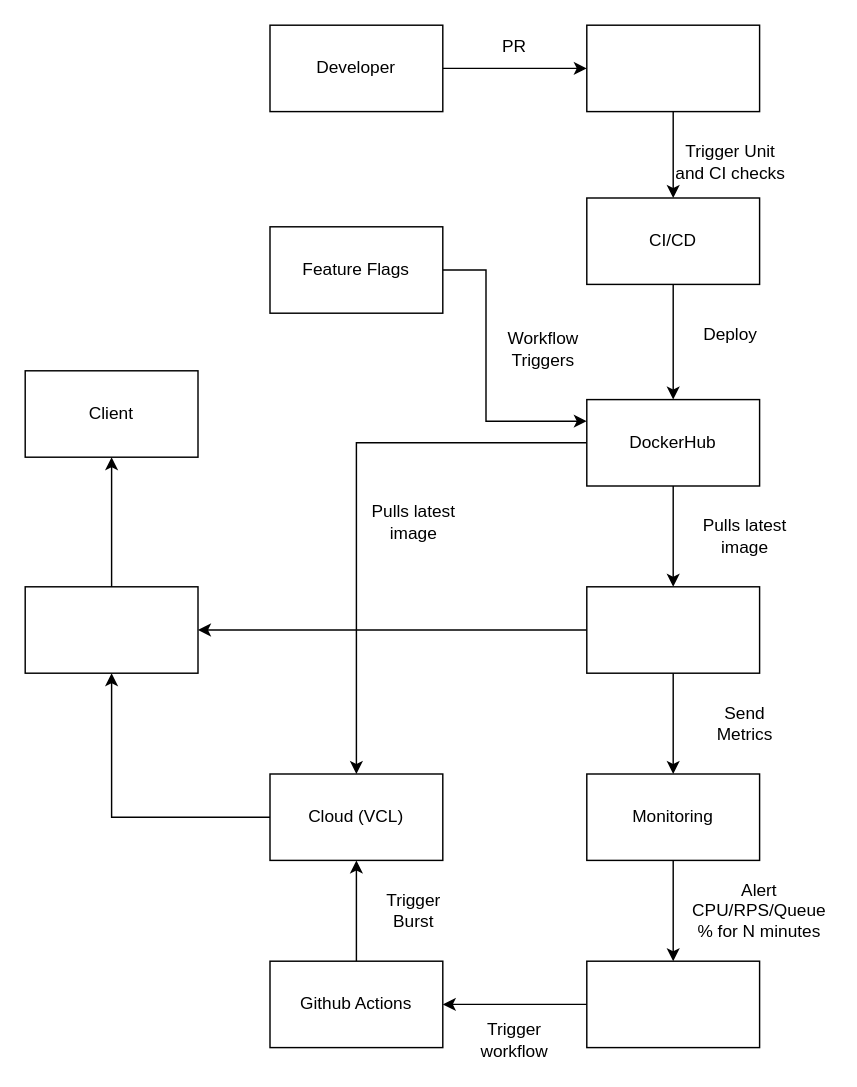
Image size: 857x1087. Some labels were removed from this diagram. The box of each missing label's shape, as (x1, y1, x2, y2) in pixels:
Github: (585, 24, 760, 112)
Load Balancer: (24, 585, 198, 673)
On Prem: (585, 585, 760, 673)
Webhook: (585, 960, 760, 1048)
